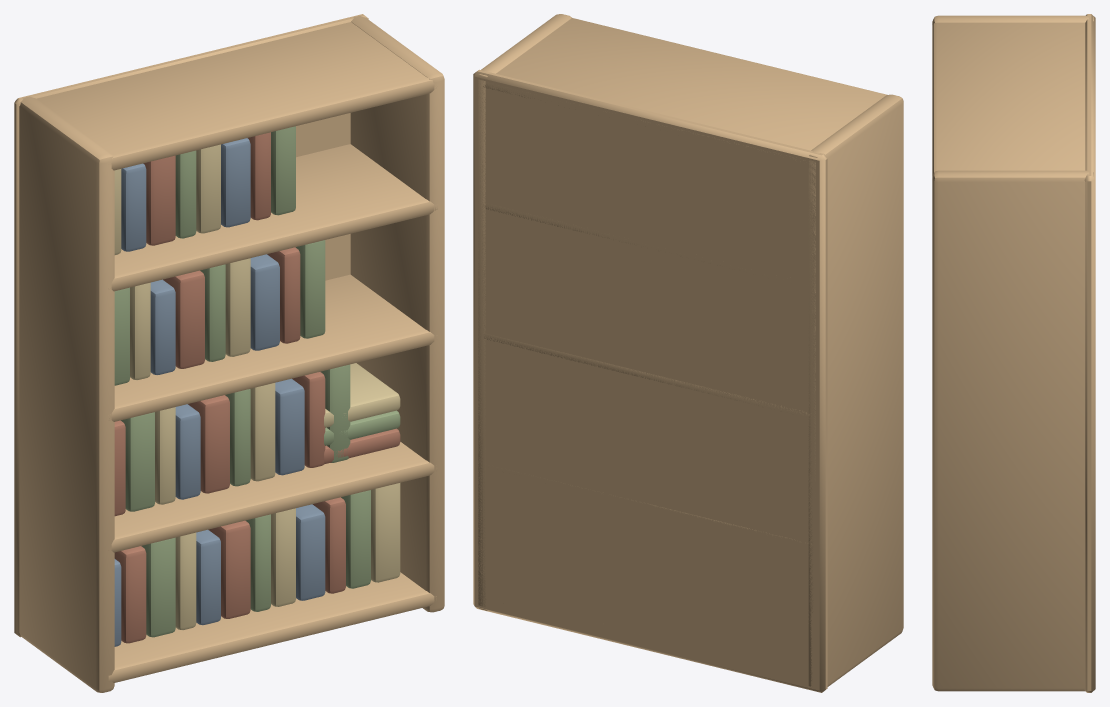
Rendered from bookshelf.glb.
The picture shows the model from 3 angles, left to right: view 1: azimuth 30°, elevation 25°; view 2: azimuth 150°, elevation 25°; view 3: azimuth 270°, elevation 25°; orthographic projection. The views are drawn at different scales.
Visible parts, largest first — view 1: wood, book_c, book_b, book_d, book_a; view 2: wood; view 3: wood.
Part boxes in pixels (left/top/right/bottom): wood: left=14, top=14, right=444, bottom=692; book_c: left=114, top=126, right=400, bottom=637; book_b: left=114, top=132, right=400, bottom=643; book_d: left=114, top=144, right=400, bottom=630; book_a: left=114, top=138, right=325, bottom=646; wood: left=473, top=14, right=903, bottom=692; wood: left=932, top=14, right=1095, bottom=692.
Size of the model in its own units: 0.96 by 1.4 by 0.4.
